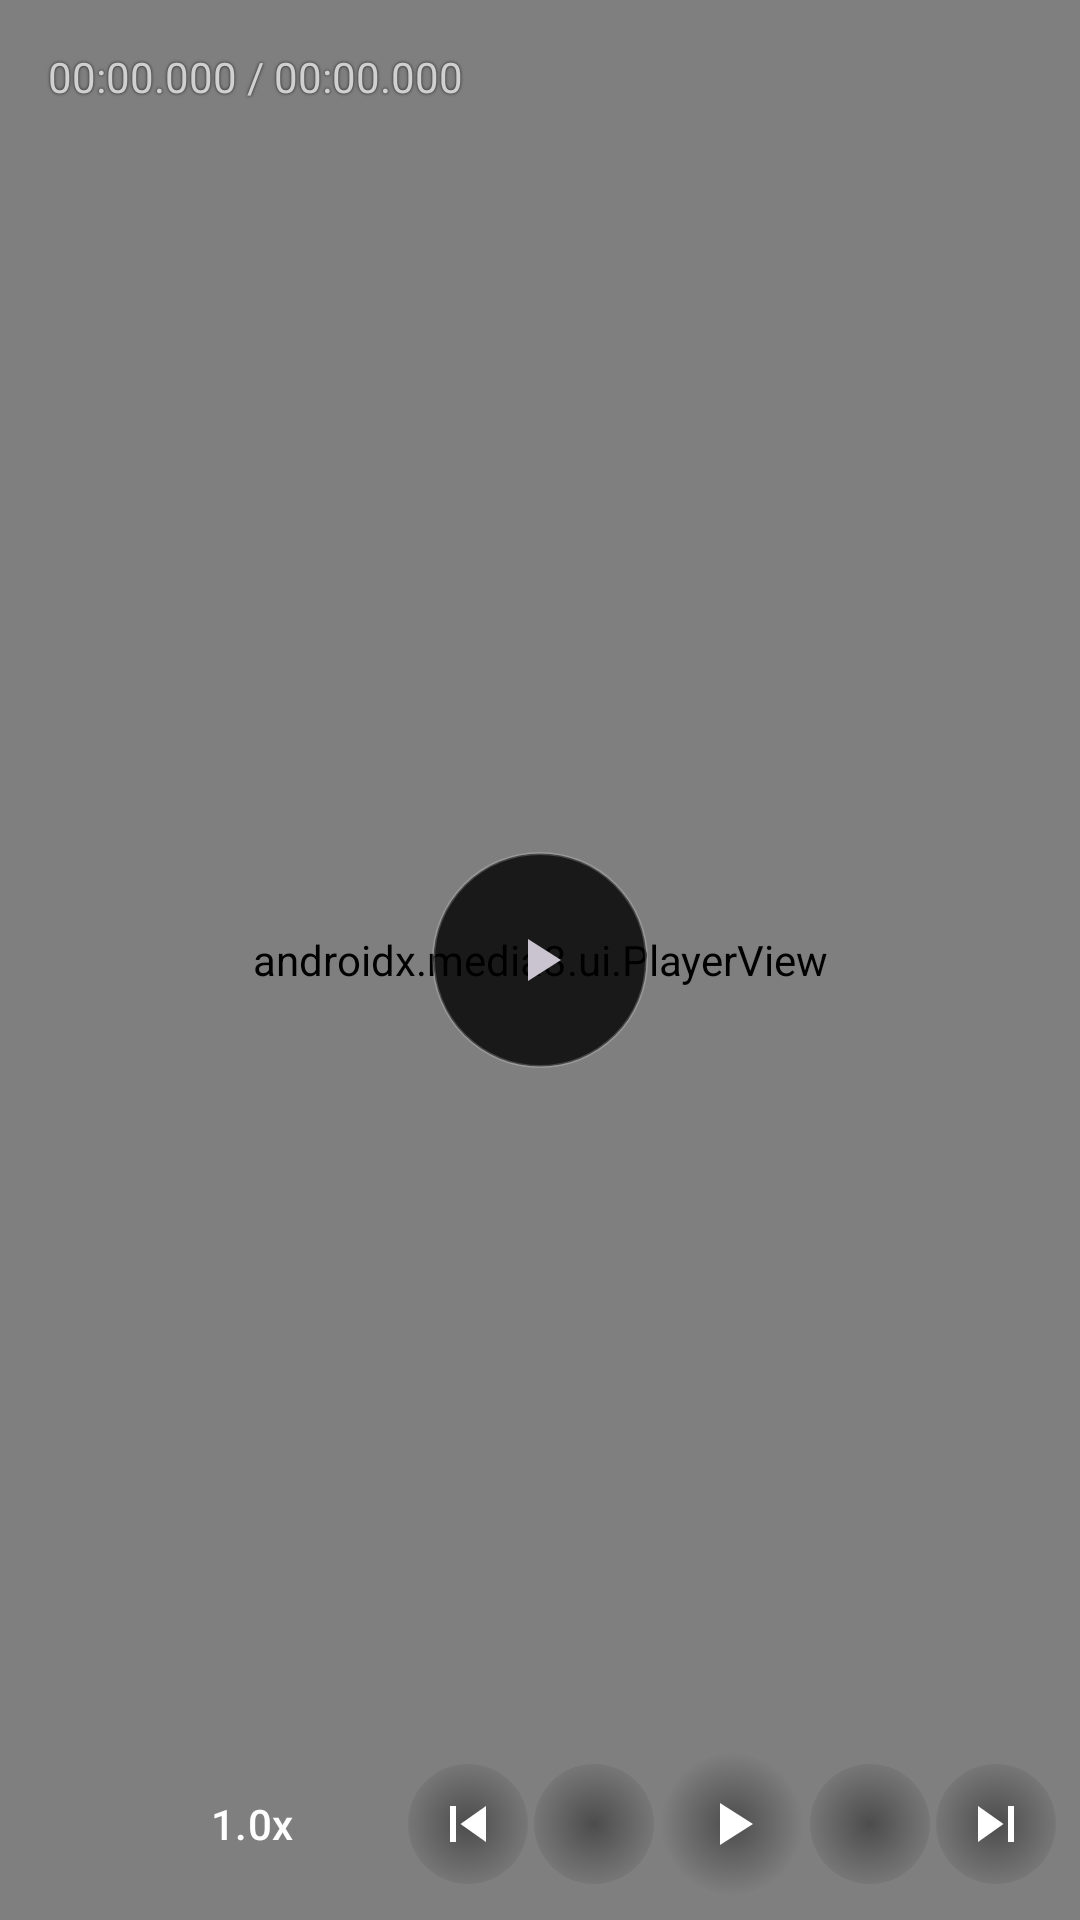

Screen size 1080px×1920px. Icon name, then its center in pixels as point (x, y):
Next Keyframe: point (996, 1824)
Previous Keyframe: point (468, 1824)
